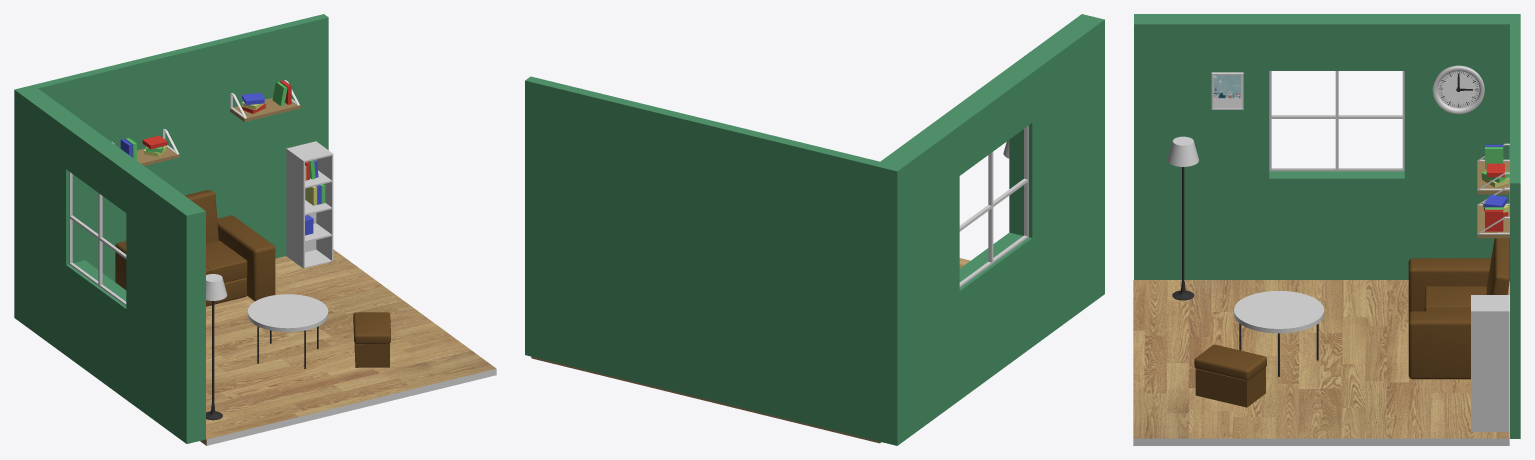
Rendered from Room.gltf.
The picture shows the model from 3 angles, left to right: view 1: azimuth 30°, elevation 25°; view 2: azimuth 150°, elevation 25°; view 3: azimuth 270°, elevation 25°; orthographic projection. The views are drawn at different scales.
Parts seen in each view (by area): view 1: Room; view 2: Room; view 3: Room.
Boxes of the visible parts, x1,y1,x2,y2 form: Room: (14,14,496,445); Room: (525,14,1104,445); Room: (1133,14,1520,445).
Bounding box in the file's own units: 0.1954 × 0.1414 × 0.189.
Materials: 1 (1 with a texture image).
